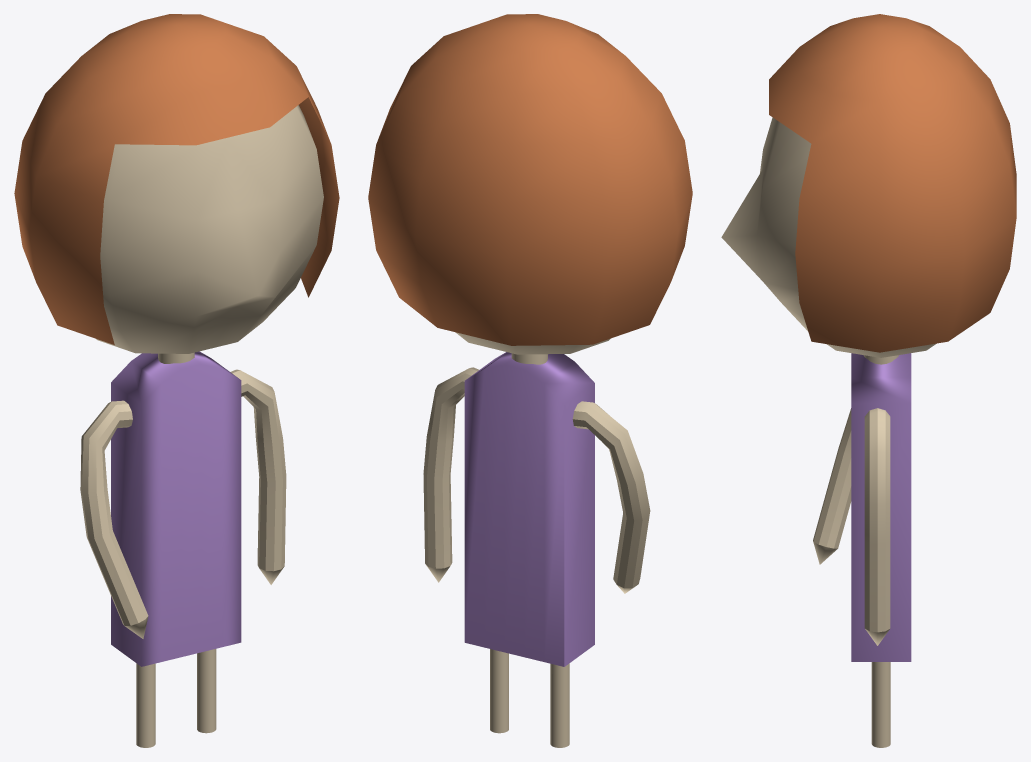
The model's file is doll.fbx.
3 renders of one model, left to right at view 1: azimuth 30°, elevation 25°; view 2: azimuth 150°, elevation 25°; view 3: azimuth 270°, elevation 25°, orthographic.
Visible parts, largest first — view 1: pSphere2, pSphere1, pCube1, pCylinder3, pCylinder2, pCylinder4, pCylinder5; view 2: pSphere2, pCube1, pCylinder2, pCylinder3, pCylinder4, pCylinder5, pSphere1; view 3: pSphere2, pCube1, pSphere1, pCylinder2, pCylinder3, pCylinder5.
Boxes of the visible parts, <box> form: pSphere2: <box>14,14,339,344</box>; pSphere1: <box>96,105,323,353</box>; pCube1: <box>111,351,241,666</box>; pCylinder3: <box>80,400,148,638</box>; pCylinder2: <box>230,369,286,584</box>; pCylinder4: <box>136,663,155,747</box>; pCylinder5: <box>197,649,216,733</box>; pSphere2: <box>368,14,692,345</box>; pCube1: <box>464,352,594,666</box>; pCylinder2: <box>423,367,478,582</box>; pCylinder3: <box>572,401,650,593</box>; pCylinder4: <box>550,663,569,747</box>; pCylinder5: <box>490,649,508,733</box>; pSphere1: <box>455,332,610,354</box>; pSphere2: <box>769,14,1016,352</box>; pCube1: <box>851,353,911,661</box>; pSphere1: <box>721,117,936,357</box>; pCylinder2: <box>864,408,890,645</box>; pCylinder3: <box>813,408,851,564</box>; pCylinder5: <box>871,662,890,747</box>.
Size of the model in its own units: 1.99 by 4.58 by 1.75.
